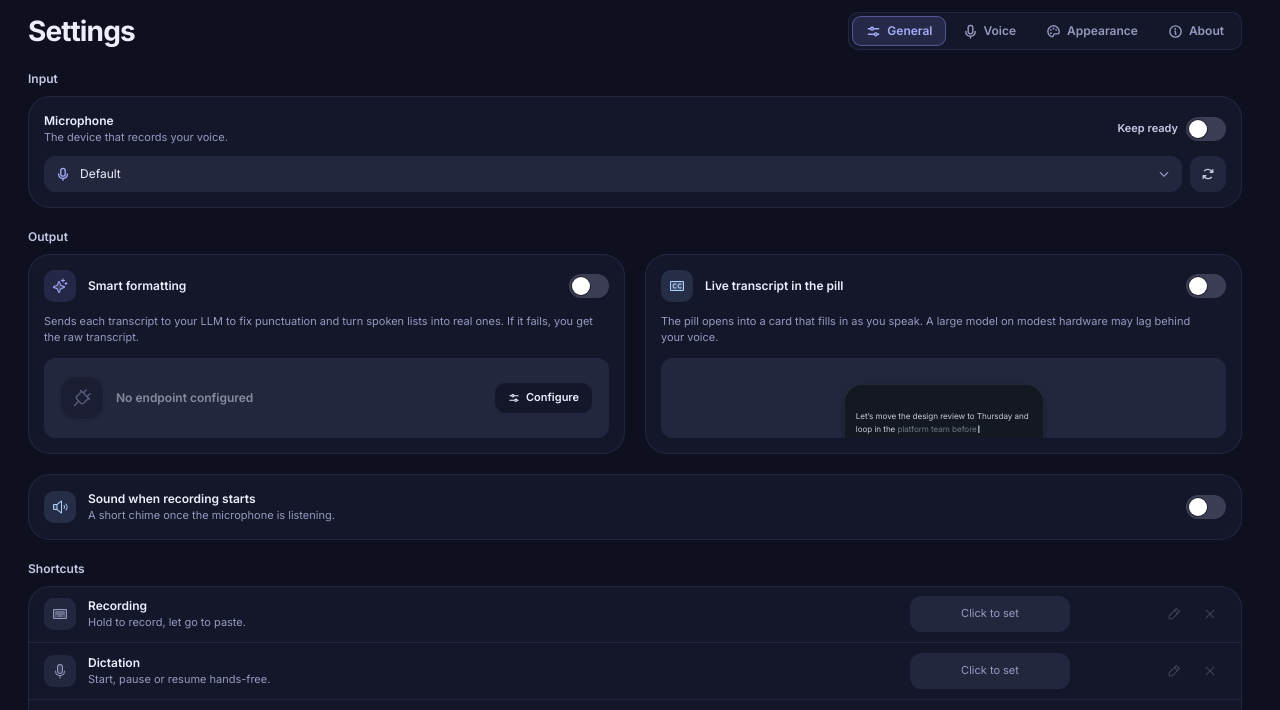
Scenario: HotkeySection › enters listening mode on click
Click the button with aria-label "click to record recording hotkey".
click(990, 614)  # box [910,596,1070,632]
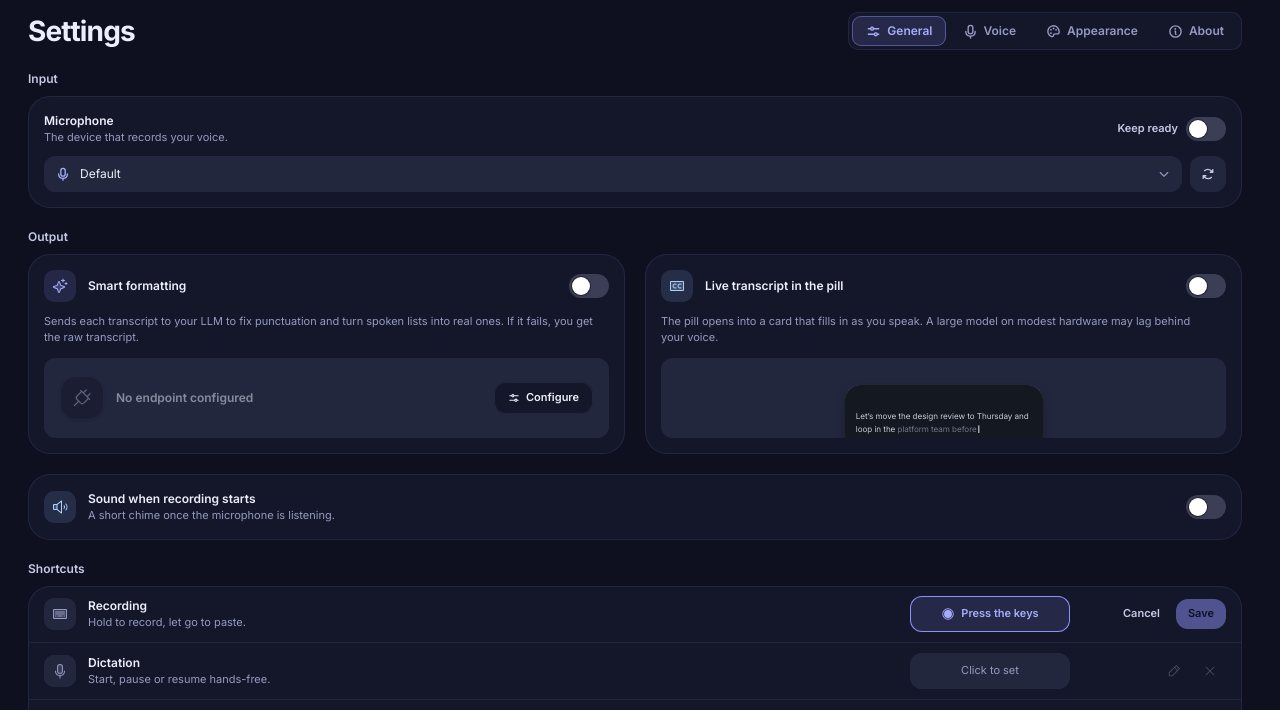
Check: the text "Press the keys" is shown, box [941,606,1039,622]
